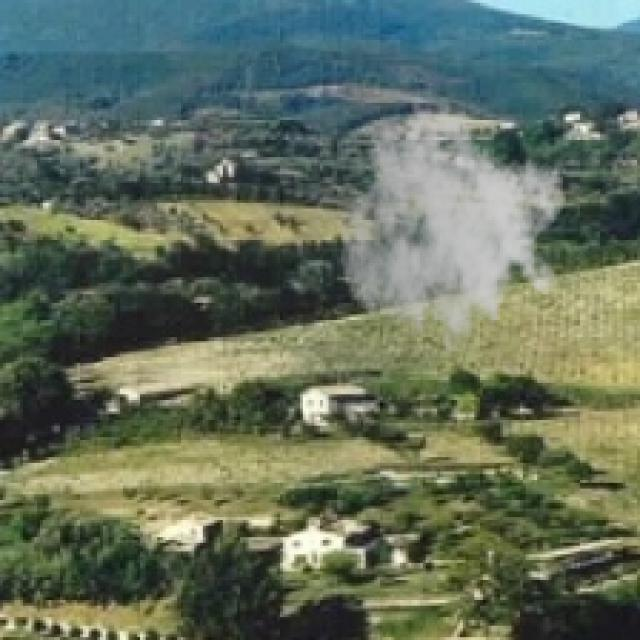Smoke: (337, 97, 566, 372)
